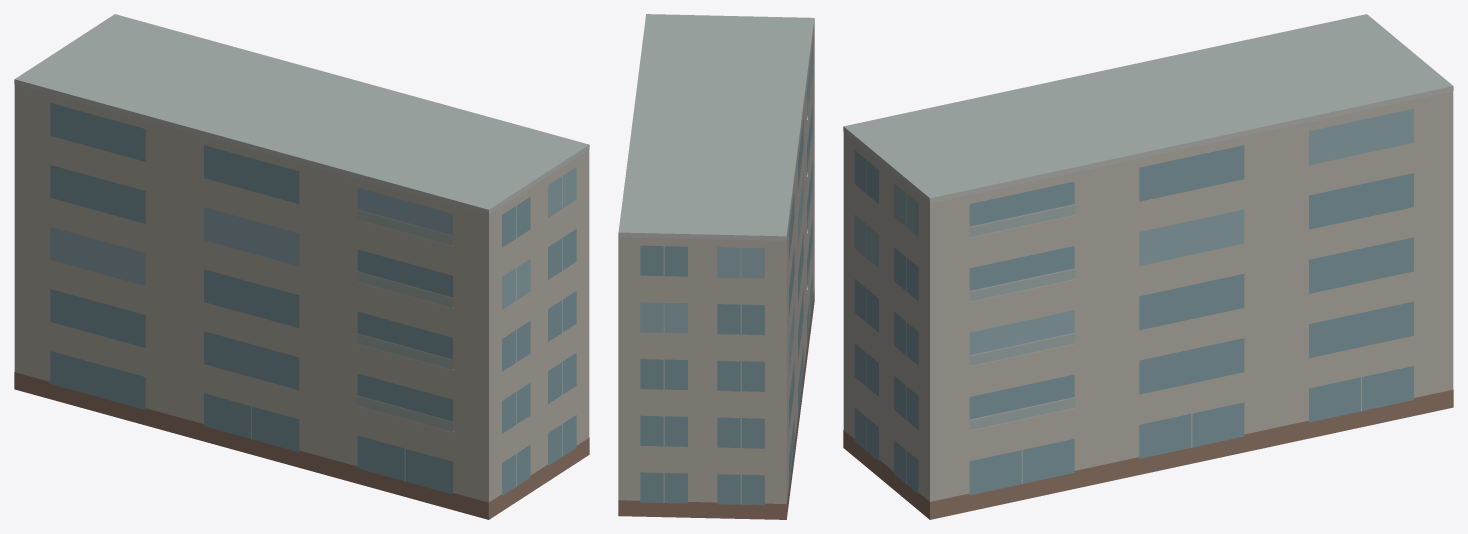
Rendered from residential-44218ae8-3c64-49b8-84eb-34779088ef65.glb.
3 views of the same model, side by side, from view 1: azimuth 30°, elevation 25°; view 2: azimuth 150°, elevation 25°; view 3: azimuth 270°, elevation 25° (orthographic). The views are drawn at different scales.
Visible parts, largest first — view 1: residential-44218ae8-3c64-49b8-84eb-34779088ef65.tmp; view 2: residential-44218ae8-3c64-49b8-84eb-34779088ef65.tmp; view 3: residential-44218ae8-3c64-49b8-84eb-34779088ef65.tmp.
Part boxes in pixels (<box>): residential-44218ae8-3c64-49b8-84eb-34779088ef65.tmp: <box>14,14,589,519</box>; residential-44218ae8-3c64-49b8-84eb-34779088ef65.tmp: <box>618,14,814,519</box>; residential-44218ae8-3c64-49b8-84eb-34779088ef65.tmp: <box>843,14,1453,519</box>.
Size of the model in its own units: 18.76 by 15.25 by 26.23.
